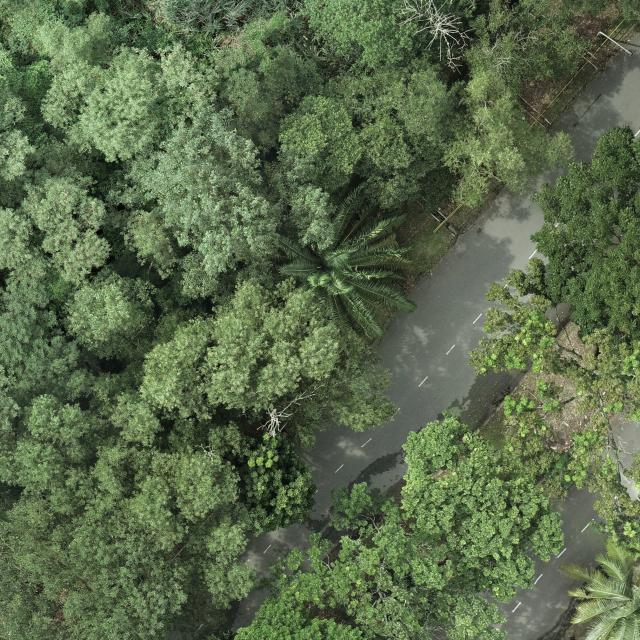Tree: (326, 409, 567, 640), (322, 0, 576, 210), (469, 257, 640, 560), (134, 276, 398, 458), (104, 100, 340, 276), (517, 118, 640, 342), (270, 178, 418, 343), (39, 42, 219, 164), (217, 10, 326, 160), (18, 172, 112, 285), (55, 262, 157, 366), (301, 0, 431, 70), (557, 537, 640, 640), (235, 432, 318, 531)
